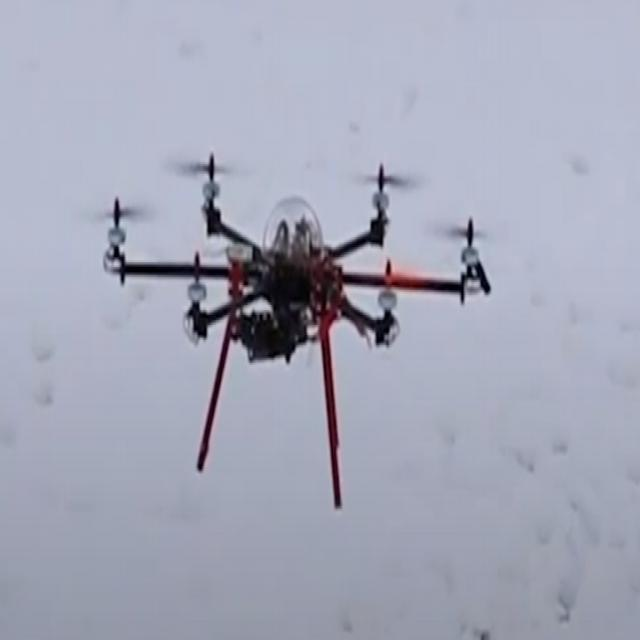drone: (73, 94, 510, 528)
